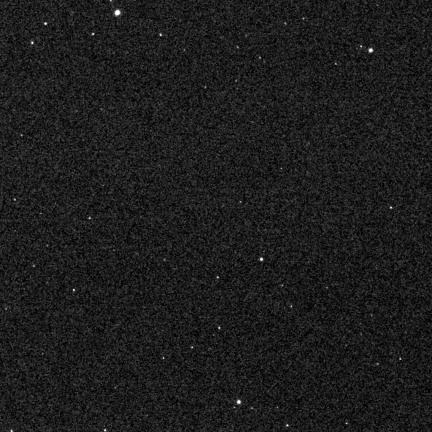blob: (115, 10, 121, 16), (369, 48, 373, 52), (44, 22, 48, 26), (237, 400, 240, 404), (260, 258, 263, 261)
